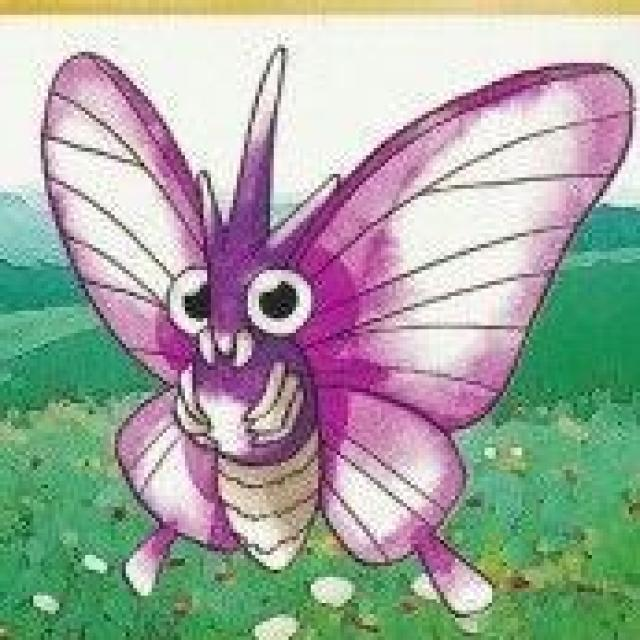Venomoth: (33, 28, 630, 636)
